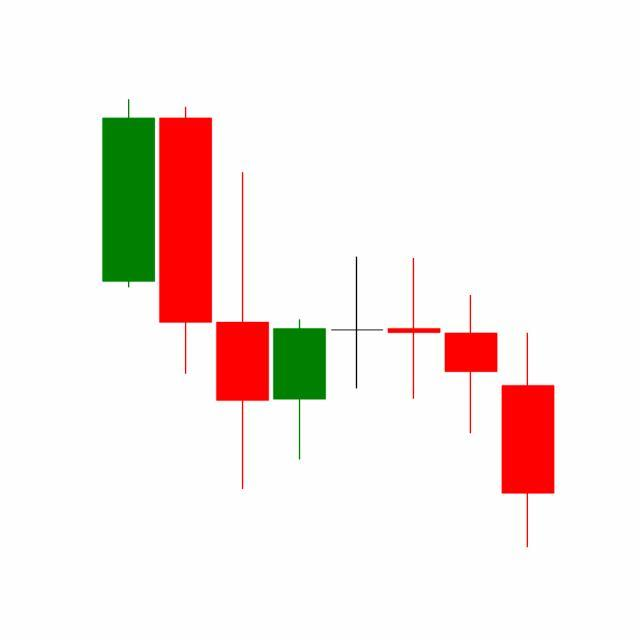Hikkake Pattern: (270, 252, 555, 548)
